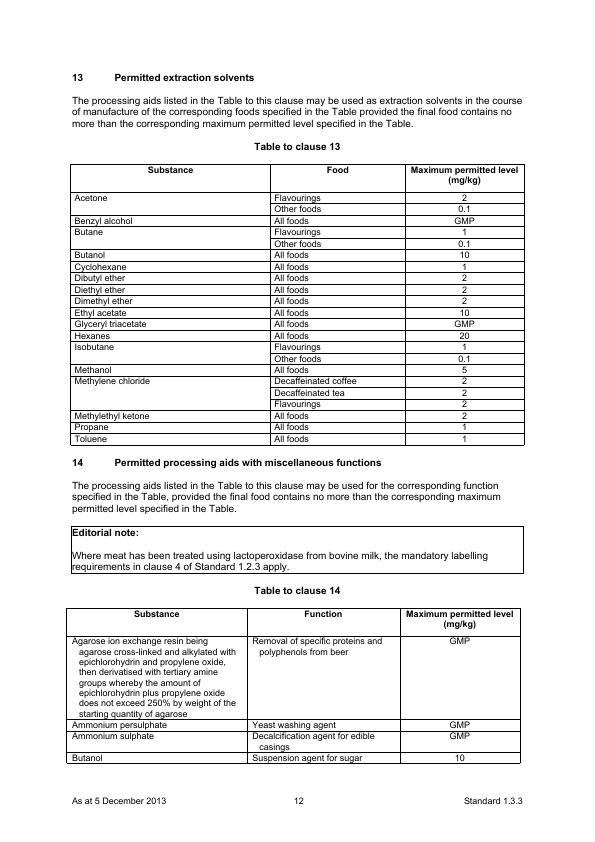table: (65, 160, 538, 450), (64, 603, 527, 771)
text: (71, 525, 496, 574), (65, 94, 527, 133), (70, 479, 506, 518), (70, 456, 386, 470), (110, 70, 257, 85), (250, 580, 345, 598), (251, 140, 342, 154)
